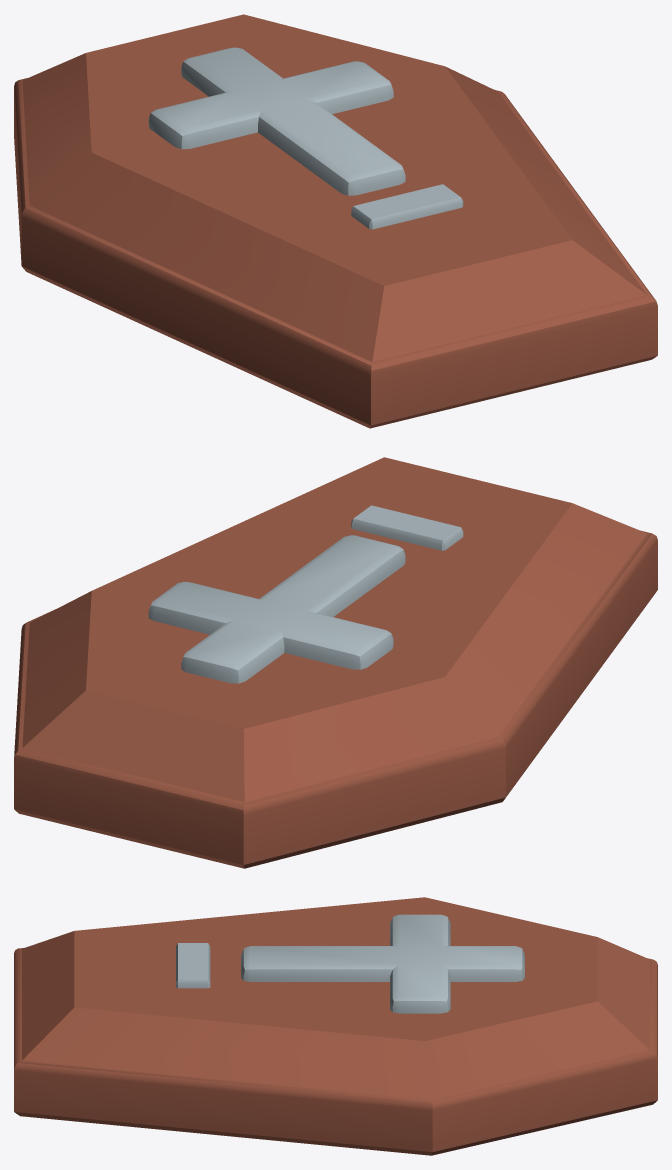
File: coffinA_top.gltf.glb
3 views of the same model, one above another, from view 1: azimuth 30°, elevation 25°; view 2: azimuth 150°, elevation 25°; view 3: azimuth 270°, elevation 25° (orthographic). The views are drawn at different scales.
Parts seen in each view (by area): view 1: coffinA_top; view 2: coffinA_top; view 3: coffinA_top.
Part boxes in pixels (x1,y1,x2,y2): coffinA_top: [14, 14, 657, 428]; coffinA_top: [14, 457, 657, 868]; coffinA_top: [14, 897, 657, 1155].
Size of the model in its own units: 1.45 by 0.3547 by 2.
